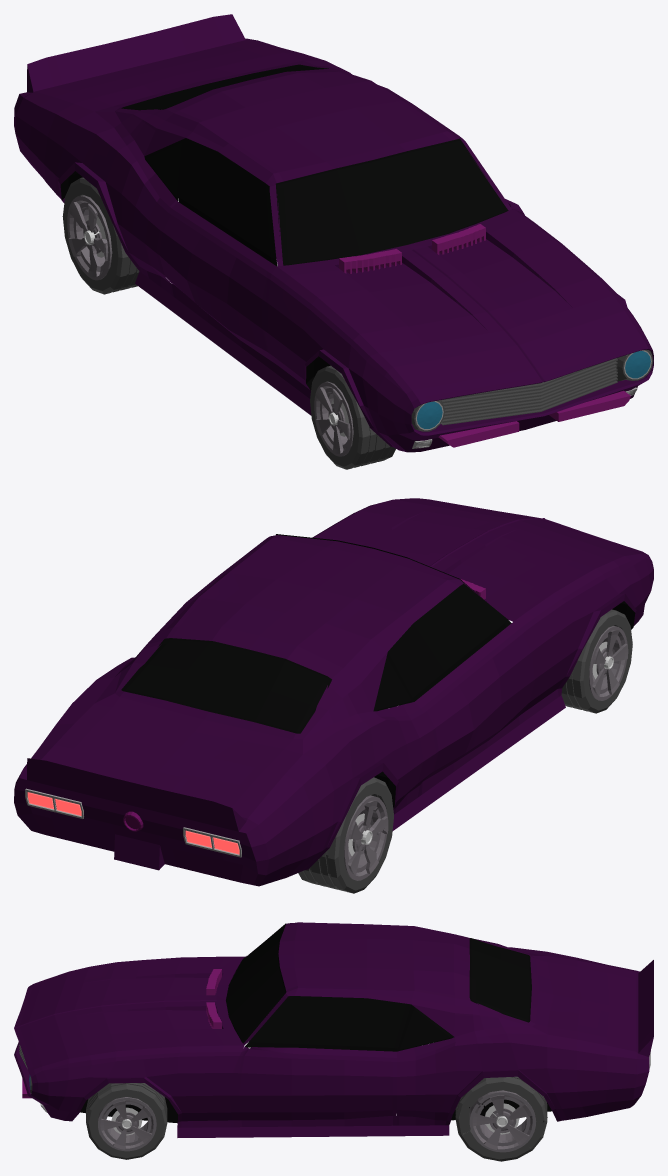
File: car.glb
The picture shows the model from 3 angles, top to bottom: view 1: azimuth 30°, elevation 25°; view 2: azimuth 150°, elevation 25°; view 3: azimuth 270°, elevation 25°; orthographic projection. The views are drawn at different scales.
Visible parts, largest first — view 1: Pueratas_Plano.008, Parabrisas_Tr_Plano.015, Rejilla_Plano.002, Ruedas_Ad_Círculo.004, Wheel1, Ruedas_Tr_Círculo.005, Wheel2, Plano.002_Plano.019, Cubo, Marco_Ventana_2_Plano.012, Faro_2_Círculo.001, Carroceria_2_Plano.003; view 2: Pueratas_Plano.008, Parabrisas_Tr_Plano.015, Ruedas_Tr_Círculo.005, Ruedas_Ad_Círculo.004, Wheel1, Wheel2, Luz_Tr_Plano.021, Marco_Ventana_2_Plano.012; view 3: Pueratas_Plano.008, Parabrisas_Tr_Plano.015, Ruedas_Tr_Círculo.005, Wheel1, Ruedas_Ad_Círculo.004, Wheel2, Marco_Ventana_2_Plano.012, Cubo.
Part boxes in pixels (x1,y1,x2,y2): Pueratas_Plano.008: [14, 14, 653, 452]; Parabrisas_Tr_Plano.015: [124, 65, 507, 266]; Rejilla_Plano.002: [441, 358, 617, 425]; Ruedas_Ad_Círculo.004: [310, 365, 395, 469]; Wheel1: [67, 195, 112, 280]; Ruedas_Tr_Círculo.005: [62, 177, 139, 294]; Wheel2: [314, 381, 353, 456]; Plano.002_Plano.019: [438, 390, 630, 447]; Cubo: [339, 224, 485, 273]; Marco_Ventana_2_Plano.012: [121, 64, 508, 265]; Faro_2_Círculo.001: [417, 351, 650, 428]; Carroceria_2_Plano.003: [415, 372, 649, 432]; Pueratas_Plano.008: [14, 498, 653, 886]; Parabrisas_Tr_Plano.015: [124, 583, 511, 731]; Ruedas_Tr_Círculo.005: [298, 777, 393, 893]; Ruedas_Ad_Círculo.004: [561, 609, 632, 713]; Wheel1: [344, 795, 388, 880]; Wheel2: [589, 626, 628, 700]; Luz_Tr_Plano.021: [25, 788, 241, 857]; Marco_Ventana_2_Plano.012: [121, 534, 486, 733]; Pueratas_Plano.008: [14, 922, 653, 1137]; Parabrisas_Tr_Plano.015: [226, 924, 530, 1051]; Ruedas_Tr_Círculo.005: [455, 1076, 547, 1161]; Wheel1: [469, 1090, 536, 1152]; Ruedas_Ad_Círculo.004: [86, 1083, 167, 1159]; Wheel2: [98, 1097, 156, 1151]; Marco_Ventana_2_Plano.012: [227, 923, 531, 1051]; Cubo: [206, 969, 221, 1028].
Size of the model in its own units: 3.93 by 2.67 by 9.85.
